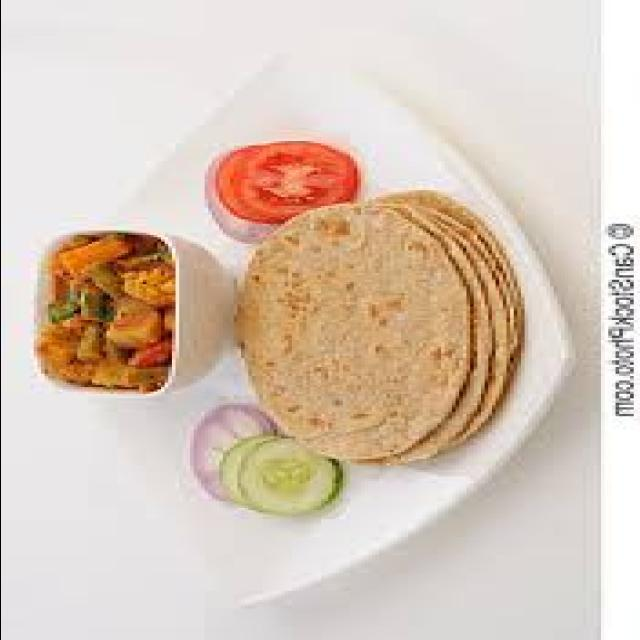roti: (230, 209, 530, 453)
veg: (33, 221, 194, 404)
